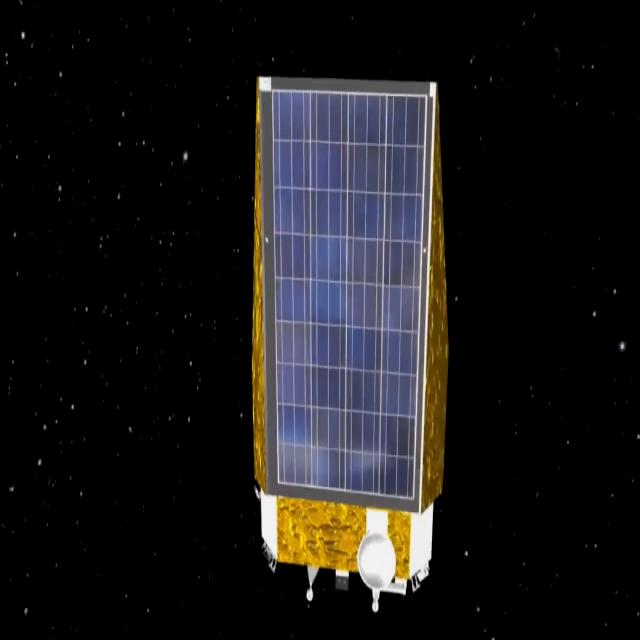satellite: (229, 41, 472, 631)
